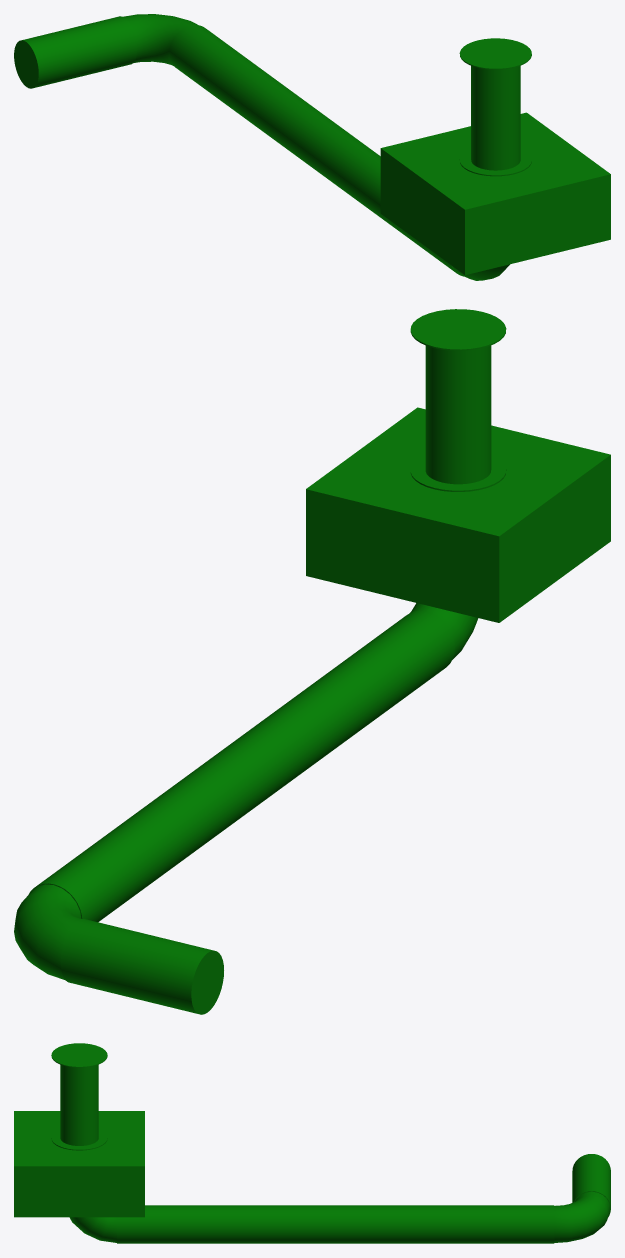
Rendered from Image-1710907701398-2280781776368_77-GA53-SUPPLY-DUCT_AIRC.fbx.
The picture shows the model from 3 angles, top to bottom: view 1: azimuth 30°, elevation 25°; view 2: azimuth 150°, elevation 25°; view 3: azimuth 270°, elevation 25°; orthographic projection. The views are drawn at different scales.
Visible parts, largest first — view 1: BOX 1 of EQUIPMENT /77-GA53-SUPPLY-DUCT_AIRC, CYLINDER 2 of EQUIPMENT /77-GA53-SUPPLY-DUCT_AIRC, CYLINDER 1 of EQUIPMENT /77-GA53-SUPPLY-DUCT_AIRC, CYLINDER 5 of EQUIPMENT /77-GA53-SUPPLY-DUCT_AIRC, CTORUS 1 of EQUIPMENT /77-GA53-SUPPLY-DUCT_AIRC, CYLINDER 6 of EQUIPMENT /77-GA53-SUPPLY-DUCT_AIRC, CYLINDER 4 of EQUIPMENT /77-GA53-SUPPLY-DUCT_AIRC, CTORUS 2 of EQUIPMENT /77-GA53-SUPPLY-DUCT_AIRC; view 2: BOX 1 of EQUIPMENT /77-GA53-SUPPLY-DUCT_AIRC, CYLINDER 2 of EQUIPMENT /77-GA53-SUPPLY-DUCT_AIRC, CYLINDER 1 of EQUIPMENT /77-GA53-SUPPLY-DUCT_AIRC, CYLINDER 5 of EQUIPMENT /77-GA53-SUPPLY-DUCT_AIRC, CTORUS 1 of EQUIPMENT /77-GA53-SUPPLY-DUCT_AIRC, CYLINDER 6 of EQUIPMENT /77-GA53-SUPPLY-DUCT_AIRC, CYLINDER 4 of EQUIPMENT /77-GA53-SUPPLY-DUCT_AIRC, CTORUS 2 of EQUIPMENT /77-GA53-SUPPLY-DUCT_AIRC; view 3: CYLINDER 2 of EQUIPMENT /77-GA53-SUPPLY-DUCT_AIRC, BOX 1 of EQUIPMENT /77-GA53-SUPPLY-DUCT_AIRC, CYLINDER 5 of EQUIPMENT /77-GA53-SUPPLY-DUCT_AIRC, CTORUS 1 of EQUIPMENT /77-GA53-SUPPLY-DUCT_AIRC, CYLINDER 1 of EQUIPMENT /77-GA53-SUPPLY-DUCT_AIRC, CYLINDER 6 of EQUIPMENT /77-GA53-SUPPLY-DUCT_AIRC, CTORUS 2 of EQUIPMENT /77-GA53-SUPPLY-DUCT_AIRC, CYLINDER 4 of EQUIPMENT /77-GA53-SUPPLY-DUCT_AIRC.
Part boxes in pixels (bbox=[...]): BOX 1 of EQUIPMENT /77-GA53-SUPPLY-DUCT_AIRC: bbox=[380, 112, 610, 275]; CYLINDER 2 of EQUIPMENT /77-GA53-SUPPLY-DUCT_AIRC: bbox=[169, 25, 463, 276]; CYLINDER 1 of EQUIPMENT /77-GA53-SUPPLY-DUCT_AIRC: bbox=[14, 16, 137, 88]; CYLINDER 5 of EQUIPMENT /77-GA53-SUPPLY-DUCT_AIRC: bbox=[471, 66, 520, 170]; CTORUS 1 of EQUIPMENT /77-GA53-SUPPLY-DUCT_AIRC: bbox=[123, 14, 197, 65]; CYLINDER 6 of EQUIPMENT /77-GA53-SUPPLY-DUCT_AIRC: bbox=[459, 38, 531, 69]; CYLINDER 4 of EQUIPMENT /77-GA53-SUPPLY-DUCT_AIRC: bbox=[459, 149, 531, 176]; CTORUS 2 of EQUIPMENT /77-GA53-SUPPLY-DUCT_AIRC: bbox=[452, 264, 509, 280]; BOX 1 of EQUIPMENT /77-GA53-SUPPLY-DUCT_AIRC: bbox=[306, 407, 610, 622]; CYLINDER 2 of EQUIPMENT /77-GA53-SUPPLY-DUCT_AIRC: bbox=[28, 610, 454, 921]; CYLINDER 1 of EQUIPMENT /77-GA53-SUPPLY-DUCT_AIRC: bbox=[61, 918, 223, 1014]; CYLINDER 5 of EQUIPMENT /77-GA53-SUPPLY-DUCT_AIRC: bbox=[425, 345, 491, 484]; CTORUS 1 of EQUIPMENT /77-GA53-SUPPLY-DUCT_AIRC: bbox=[14, 884, 81, 979]; CYLINDER 6 of EQUIPMENT /77-GA53-SUPPLY-DUCT_AIRC: bbox=[410, 309, 506, 350]; CYLINDER 4 of EQUIPMENT /77-GA53-SUPPLY-DUCT_AIRC: bbox=[410, 456, 506, 491]; CTORUS 2 of EQUIPMENT /77-GA53-SUPPLY-DUCT_AIRC: bbox=[410, 603, 478, 659]; CYLINDER 2 of EQUIPMENT /77-GA53-SUPPLY-DUCT_AIRC: bbox=[117, 1205, 554, 1243]; BOX 1 of EQUIPMENT /77-GA53-SUPPLY-DUCT_AIRC: bbox=[14, 1111, 144, 1217]; CYLINDER 5 of EQUIPMENT /77-GA53-SUPPLY-DUCT_AIRC: bbox=[60, 1064, 98, 1145]; CTORUS 1 of EQUIPMENT /77-GA53-SUPPLY-DUCT_AIRC: bbox=[554, 1191, 610, 1242]; CYLINDER 1 of EQUIPMENT /77-GA53-SUPPLY-DUCT_AIRC: bbox=[572, 1154, 610, 1216]; CYLINDER 6 of EQUIPMENT /77-GA53-SUPPLY-DUCT_AIRC: bbox=[51, 1043, 107, 1067]; CTORUS 2 of EQUIPMENT /77-GA53-SUPPLY-DUCT_AIRC: bbox=[69, 1217, 116, 1242]; CYLINDER 4 of EQUIPMENT /77-GA53-SUPPLY-DUCT_AIRC: bbox=[51, 1129, 107, 1150].
Size of the model in its own units: 1.02 by 3.19 by 1.1.
